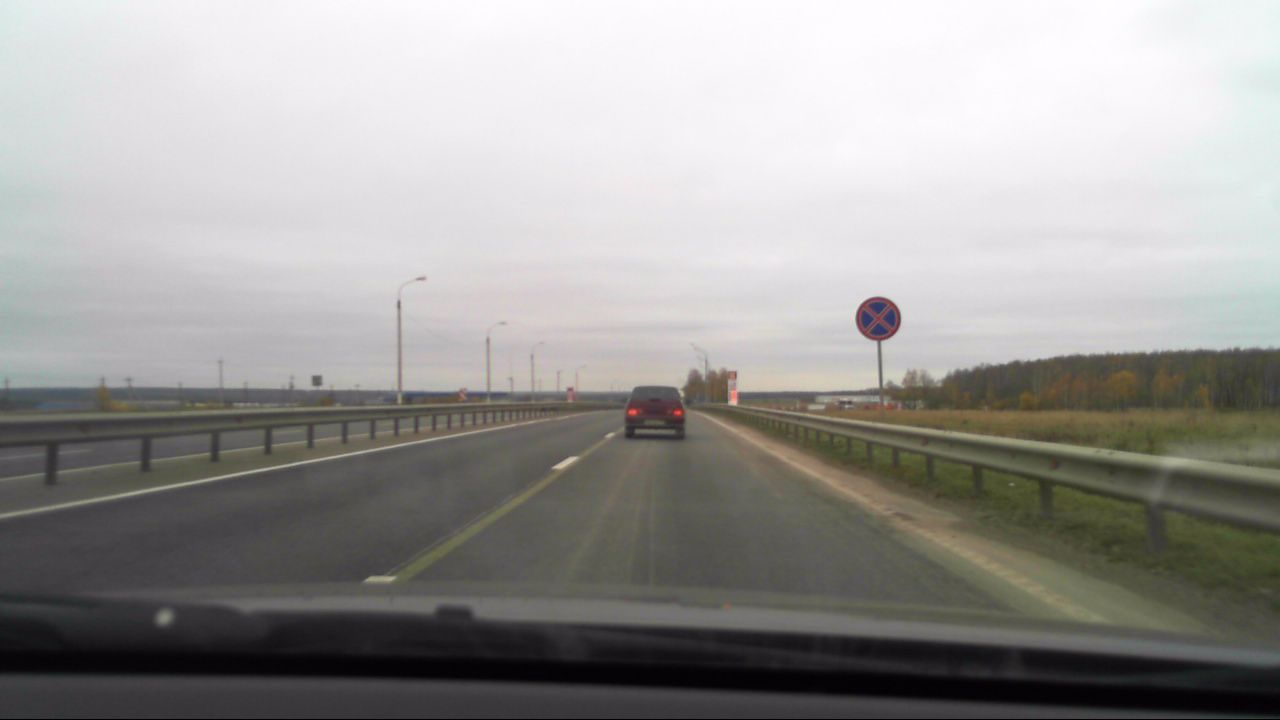No Parking: (855, 297, 903, 341)
